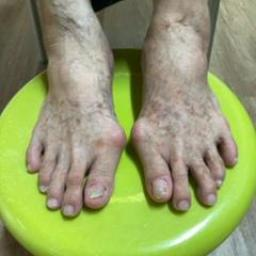Dorsal View -Both Feet-: (10, 5, 250, 240)
